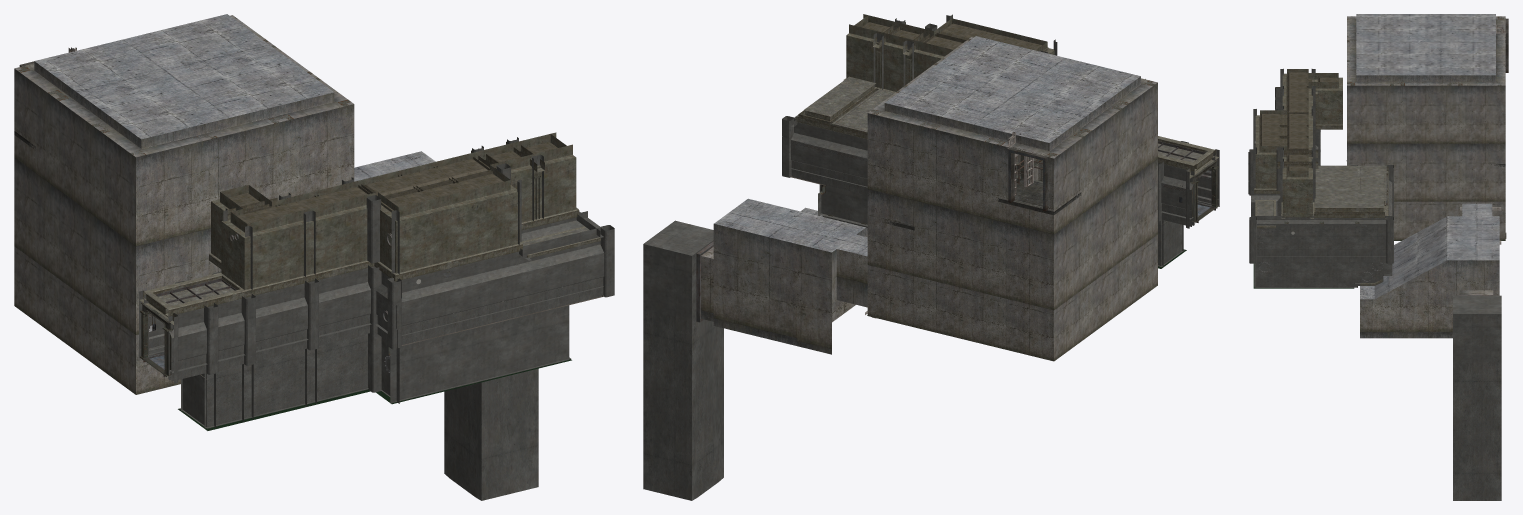
3 views of the same model, side by side, from view 1: azimuth 30°, elevation 25°; view 2: azimuth 150°, elevation 25°; view 3: azimuth 270°, elevation 25° (orthographic). The views are drawn at different scales.
Parts seen in each view (by area): view 1: LOD_1_Group_0_Sub_10__st3_sTPEastWall12, LOD_1_Group_0_Sub_5__st3_policeUndergroundWall03, LOD_1_Group_0_Sub_7__st3_sTPEastWall02, LOD_1_Group_0_Sub_4__st3_policeUndergroundCeiling04, LOD_1_Group_0_Sub_16__st3_sewageCeiling03, LOD_1_Group_0_Sub_17__st3_sTPEastCeiling01, LOD_1_Group_0_Sub_6__st3_sewageSteel07, LOD_1_Group_0_Sub_1__st3_sTPEastFloor03; view 2: LOD_1_Group_0_Sub_5__st3_policeUndergroundWall03, LOD_1_Group_0_Sub_10__st3_sTPEastWall12, LOD_1_Group_0_Sub_4__st3_policeUndergroundCeiling04, LOD_1_Group_0_Sub_7__st3_sTPEastWall02, LOD_1_Group_0_Sub_16__st3_sewageCeiling03, LOD_1_Group_0_Sub_6__st3_sewageSteel07, LOD_1_Group_0_Sub_17__st3_sTPEastCeiling01, LOD_1_Group_0_Sub_3__st1_townStairs01, LOD_1_Group_0_Sub_11__st3_sTPEastDoor01, LOD_1_Group_0_Sub_2__st3_sewageSteel06; view 3: LOD_1_Group_0_Sub_5__st3_policeUndergroundWall03, LOD_1_Group_0_Sub_10__st3_sTPEastWall12, LOD_1_Group_0_Sub_4__st3_policeUndergroundCeiling04, LOD_1_Group_0_Sub_16__st3_sewageCeiling03, LOD_1_Group_0_Sub_7__st3_sTPEastWall02, LOD_1_Group_0_Sub_17__st3_sTPEastCeiling01, LOD_1_Group_0_Sub_6__st3_sewageSteel07.
Boxes of the visible parts, x1,y1,x2,y2 form: LOD_1_Group_0_Sub_10__st3_sTPEastWall12: (139,137,614,500); LOD_1_Group_0_Sub_5__st3_policeUndergroundWall03: (14,15,354,394); LOD_1_Group_0_Sub_7__st3_sTPEastWall02: (211,132,576,289); LOD_1_Group_0_Sub_4__st3_policeUndergroundCeiling04: (34,14,435,181); LOD_1_Group_0_Sub_16__st3_sewageCeiling03: (139,141,600,324); LOD_1_Group_0_Sub_17__st3_sTPEastCeiling01: (228,142,557,223); LOD_1_Group_0_Sub_6__st3_sewageSteel07: (19,61,540,376); LOD_1_Group_0_Sub_1__st3_sTPEastFloor03: (178,359,571,430); LOD_1_Group_0_Sub_5__st3_policeUndergroundWall03: (701,37,1157,361); LOD_1_Group_0_Sub_10__st3_sTPEastWall12: (643,14,1219,500); LOD_1_Group_0_Sub_4__st3_policeUndergroundCeiling04: (714,36,1140,256); LOD_1_Group_0_Sub_7__st3_sTPEastWall02: (846,14,1054,91); LOD_1_Group_0_Sub_16__st3_sewageCeiling03: (795,20,1218,178); LOD_1_Group_0_Sub_6__st3_sewageSteel07: (821,51,1218,224); LOD_1_Group_0_Sub_17__st3_sTPEastCeiling01: (862,22,1048,51); LOD_1_Group_0_Sub_3__st1_townStairs01: (883,178,1081,230); LOD_1_Group_0_Sub_11__st3_sTPEastDoor01: (696,91,1215,322); LOD_1_Group_0_Sub_2__st3_sewageSteel06: (791,39,1167,318); LOD_1_Group_0_Sub_5__st3_policeUndergroundWall03: (1347,16,1505,338); LOD_1_Group_0_Sub_10__st3_sTPEastWall12: (1248,68,1501,500); LOD_1_Group_0_Sub_4__st3_policeUndergroundCeiling04: (1356,14,1499,299); LOD_1_Group_0_Sub_16__st3_sewageCeiling03: (1254,79,1388,228); LOD_1_Group_0_Sub_7__st3_sTPEastWall02: (1255,69,1382,285); LOD_1_Group_0_Sub_17__st3_sTPEastCeiling01: (1260,72,1338,170); LOD_1_Group_0_Sub_6__st3_sewageSteel07: (1282,18,1508,255).
Size of the model in its own units: 25.56 by 25.22 by 17.51.
